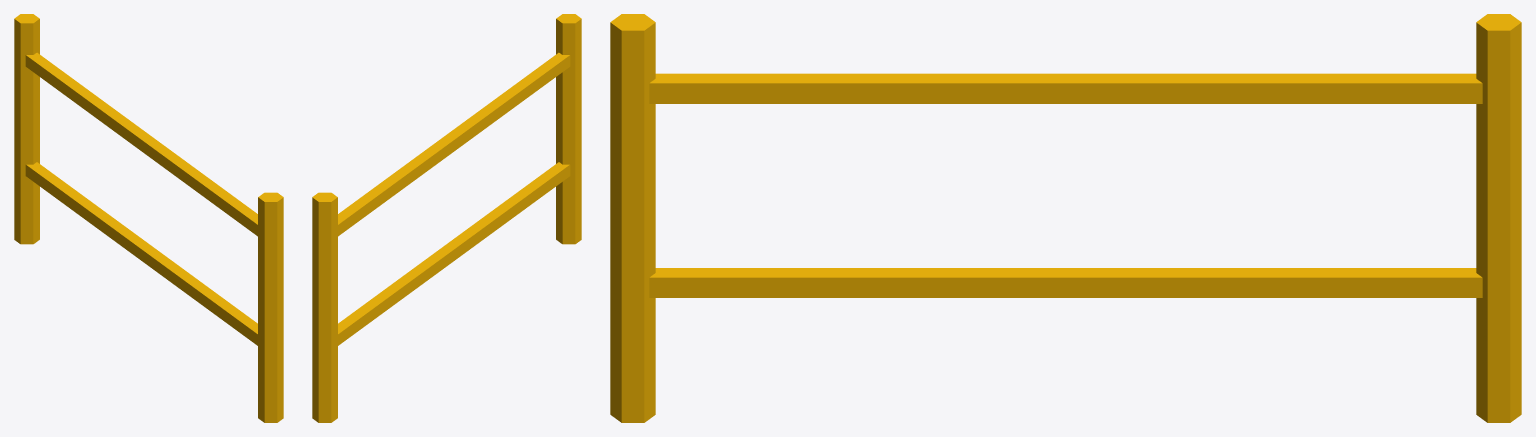
Rendered from Scaffold_Rails_1_Yellow_02.FBX.
The picture shows the model from 3 angles, left to right: view 1: azimuth 30°, elevation 25°; view 2: azimuth 150°, elevation 25°; view 3: azimuth 270°, elevation 25°; orthographic projection. The views are drawn at different scales.
Visible parts, largest first — view 1: Scaffold_Rails_1_Yellow_02; view 2: Scaffold_Rails_1_Yellow_02; view 3: Scaffold_Rails_1_Yellow_02.
Part boxes in pixels (x1=…): Scaffold_Rails_1_Yellow_02: x1=14, y1=14, x2=283, y2=422; Scaffold_Rails_1_Yellow_02: x1=312, y1=14, x2=581, y2=422; Scaffold_Rails_1_Yellow_02: x1=610, y1=14, x2=1521, y2=422.
Bounding box in the file's own units: 165 × 1815 × 3821.
